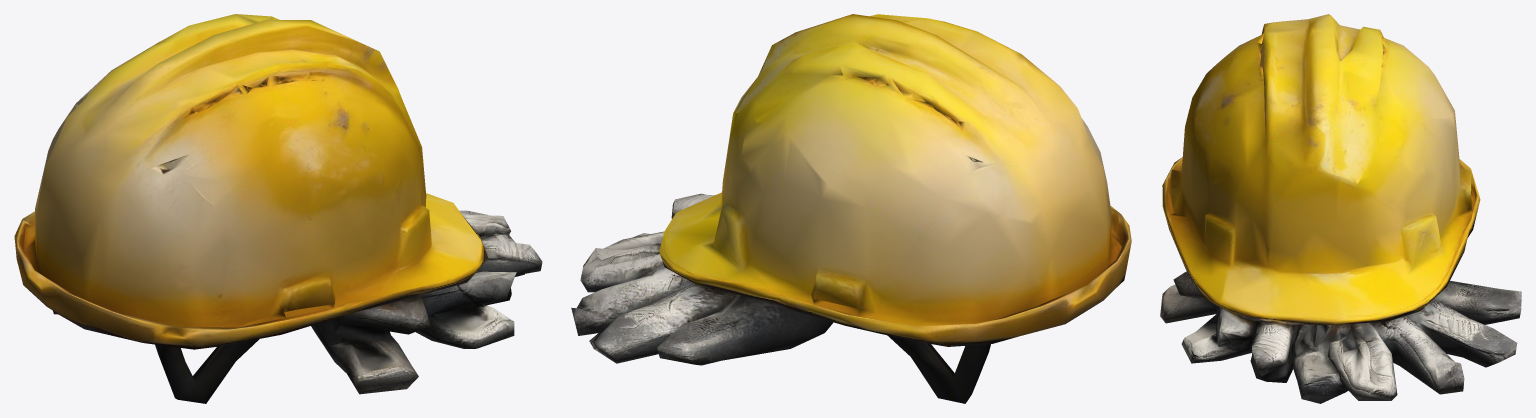
The model's file is qr_helmet.glb.
3 views of the same model, side by side, from view 1: azimuth 30°, elevation 25°; view 2: azimuth 150°, elevation 25°; view 3: azimuth 270°, elevation 25° (orthographic). The views are drawn at different scales.
Parts seen in each view (by area): view 1: tripo_node_8857b931-2c6f-4905-82d5-5b55496f3af1; view 2: tripo_node_8857b931-2c6f-4905-82d5-5b55496f3af1; view 3: tripo_node_8857b931-2c6f-4905-82d5-5b55496f3af1.
Part boxes in pixels (x1,y1,x2,y2): tripo_node_8857b931-2c6f-4905-82d5-5b55496f3af1: [14, 14, 542, 403]; tripo_node_8857b931-2c6f-4905-82d5-5b55496f3af1: [571, 14, 1131, 403]; tripo_node_8857b931-2c6f-4905-82d5-5b55496f3af1: [1160, 14, 1521, 403].
Bounding box in the file's own units: 1 × 0.6003 × 0.7585.
Materials: 1 (1 with a texture image).
